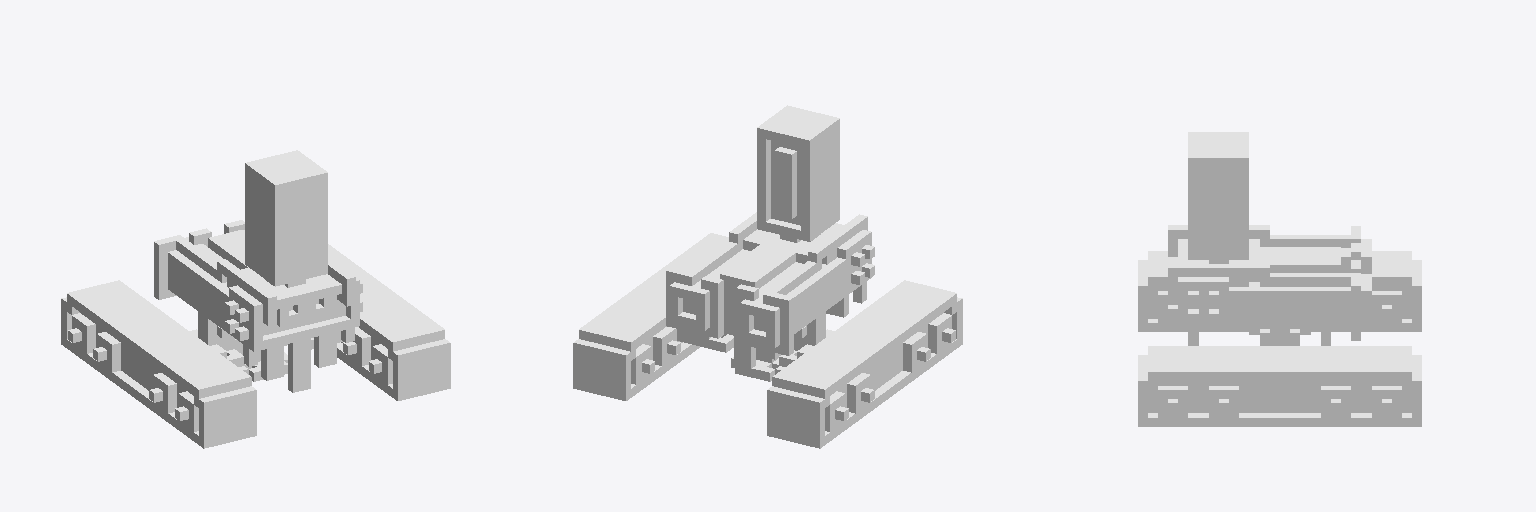
The model's file is missileRobot.obj.
3 views of the same model, side by side, from view 1: azimuth 30°, elevation 25°; view 2: azimuth 150°, elevation 25°; view 3: azimuth 270°, elevation 25° (orthographic).
Parts seen in each view (by area): view 1: object 1; view 2: object 1; view 3: object 1.
Boxes of the visible parts, <box> form: object 1: <box>61,150,450,448</box>; object 1: <box>573,105,962,448</box>; object 1: <box>1138,132,1421,426</box>.
Size of the model in its own units: 3 by 2.4 by 2.8.